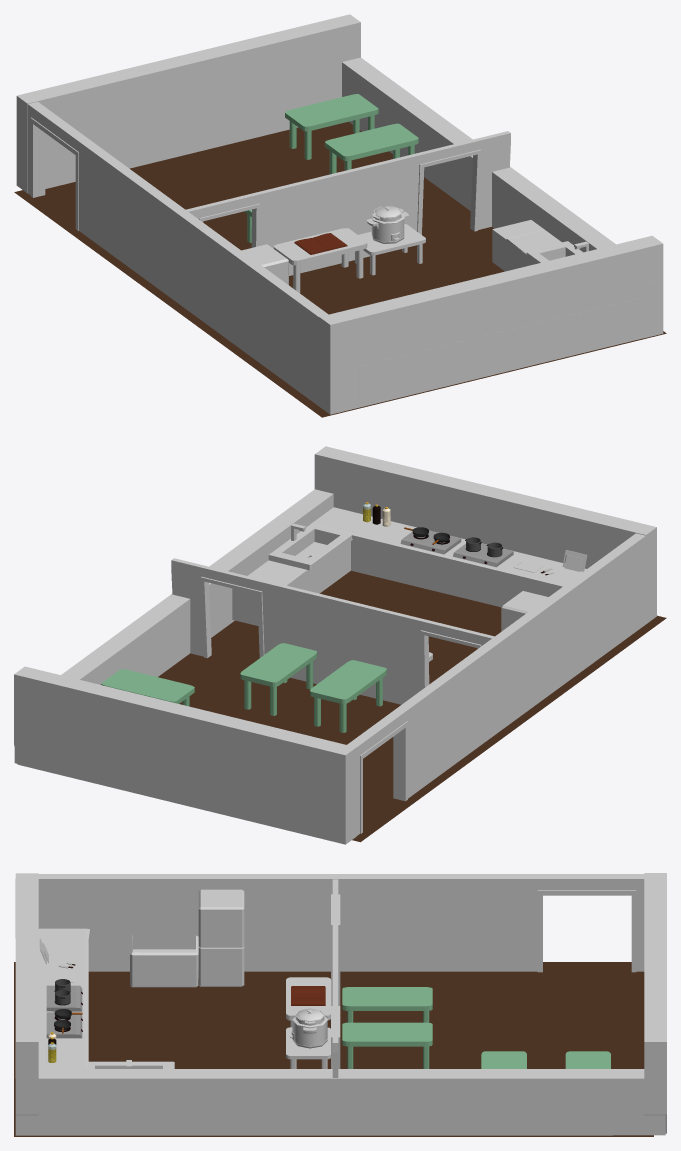
Rendered from Map Updated (1).fbx.
The picture shows the model from 3 angles, top to bottom: view 1: azimuth 30°, elevation 25°; view 2: azimuth 150°, elevation 25°; view 3: azimuth 270°, elevation 25°; orthographic projection. The views are drawn at different scales.
Visible parts, largest first — view 1: Cube.001, Cube.003, Plane, Cube, Cube.004, Ground.001, Cube.002, Table.007, Table.006, Table, Rice cooker, Table.001 (+2 smaller); view 2: Cube.001, Cube.003, Plane, Cube, Cube.004, Ground.001, Cube.002, Table.002, Table.003, Table.006, Fridge, Cube.006 (+1 smaller); view 3: Plane, Cube.003, Cube.002, Ground.001, Cube.001, Cube, Fridge, Freezer, Table.002, Table.003, Cube.004, Rice cooker (+7 smaller).
Boxes of the visible parts, x1,y1,x2,y2 form: Cube.001: (16, 14, 360, 193); Cube.003: (28, 102, 340, 414); Plane: (14, 121, 666, 417); Cube: (319, 235, 663, 412); Cube.004: (186, 131, 510, 275); Ground.001: (358, 220, 659, 404); Cube.002: (342, 57, 663, 338); Table.007: (285, 94, 378, 159); Table.006: (325, 123, 418, 174); Table: (273, 228, 367, 292); Rice cooker: (366, 206, 408, 243); Table.001: (355, 224, 425, 275); Cube.001: (14, 666, 356, 844); Cube.003: (347, 528, 656, 835); Plane: (158, 570, 666, 842); Cube: (314, 446, 656, 568); Cube.004: (171, 558, 494, 704); Ground.001: (232, 507, 586, 625); Cube.002: (14, 489, 333, 763); Table.002: (240, 643, 317, 715); Table.003: (310, 660, 386, 732); Table.006: (101, 669, 194, 706); Fridge: (501, 591, 548, 631); Cube.006: (400, 530, 461, 554); Plane: (14, 962, 653, 1136); Cube.003: (15, 874, 644, 972); Cube.002: (15, 1069, 665, 1135); Ground.001: (15, 928, 174, 1068); Cube.001: (644, 873, 666, 1133); Cube: (16, 873, 38, 1115); Fridge: (198, 889, 244, 986); Freezer: (130, 935, 198, 987); Table.002: (342, 1022, 432, 1068); Table.003: (342, 987, 432, 1022); Cube.004: (331, 879, 340, 1077); Rice cooker: (289, 1008, 327, 1048).
Size of the model in its own units: 1816 by 455 by 2866.
